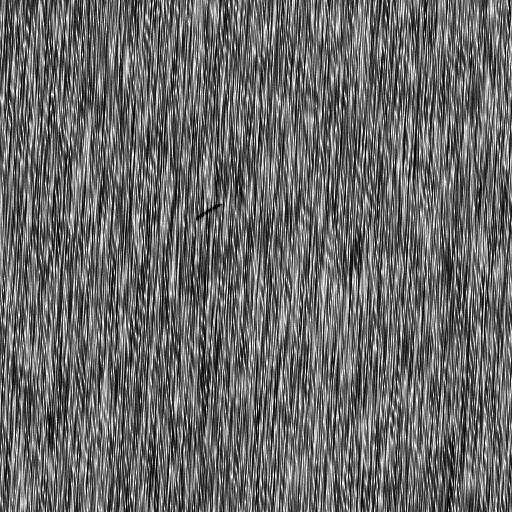DefectTypeC: (194, 202, 222, 221)
